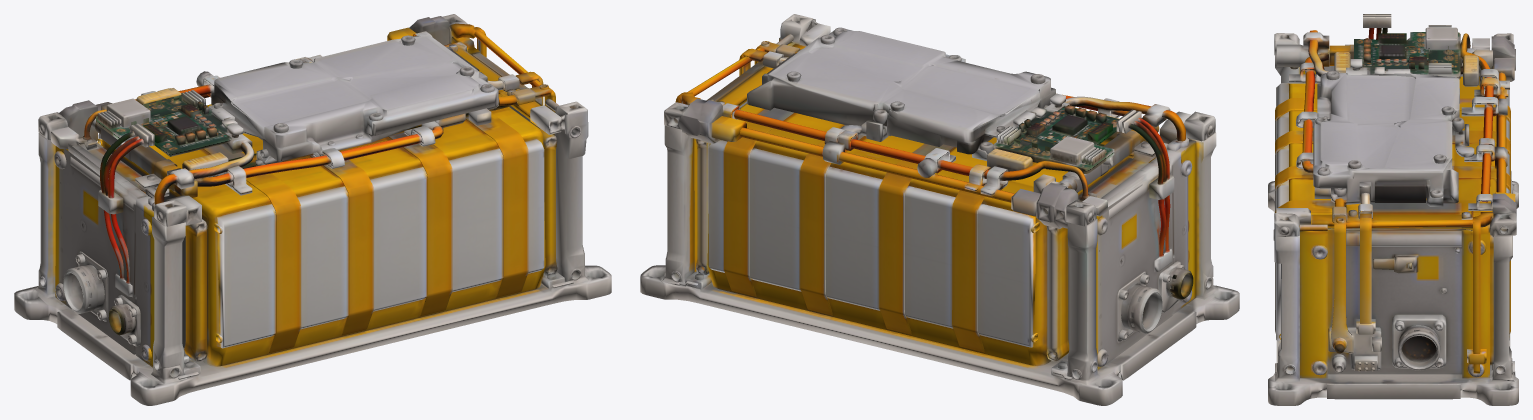
The model's file is sat2_4.fbx.
3 renders of one model, left to right at view 1: azimuth 30°, elevation 25°; view 2: azimuth 150°, elevation 25°; view 3: azimuth 270°, elevation 25°, orthographic. The views are drawn at different scales.
Visible parts, largest first — view 1: tripo_node_f99c018e; view 2: tripo_node_f99c018e; view 3: tripo_node_f99c018e.
Boxes of the visible parts, bbox=[...] form: tripo_node_f99c018e: bbox=[14, 14, 611, 405]; tripo_node_f99c018e: bbox=[640, 14, 1239, 405]; tripo_node_f99c018e: bbox=[1268, 14, 1518, 405].
Bounding box in the file's own units: 0.9995 × 0.4487 × 0.5015.
